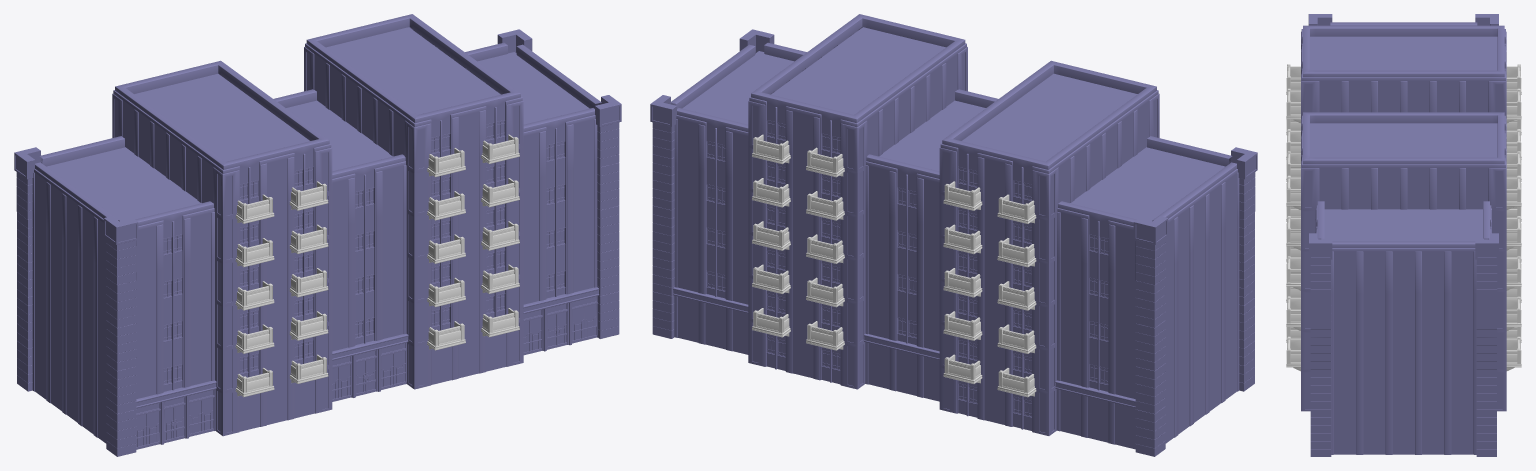
The model's file is building_01.fbx.
The picture shows the model from 3 angles, left to right: view 1: azimuth 30°, elevation 25°; view 2: azimuth 150°, elevation 25°; view 3: azimuth 270°, elevation 25°; orthographic projection. The views are drawn at different scales.
Parts seen in each view (by area): view 1: building_01, balcony_02; view 2: building_01, balcony_02; view 3: building_01, balcony_02.
Part boxes in pixels (x1,y1,x2,y2): building_01: (14,14,621,456); balcony_02: (235,134,519,397); building_01: (650,14,1257,456); balcony_02: (752,134,1036,397); building_01: (1301,14,1506,456); balcony_02: (1286,64,1521,371).
Bounding box in the file's own units: 3694 × 1881 × 1605.
